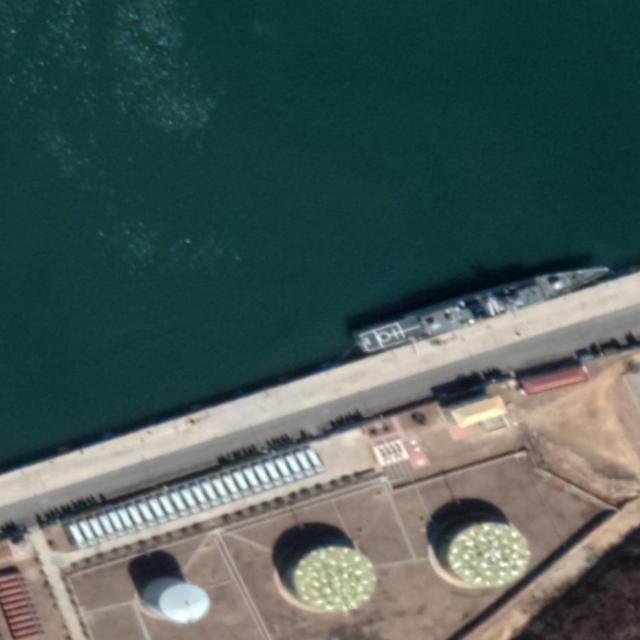Auxiliary Ships: (352, 257, 614, 354)
